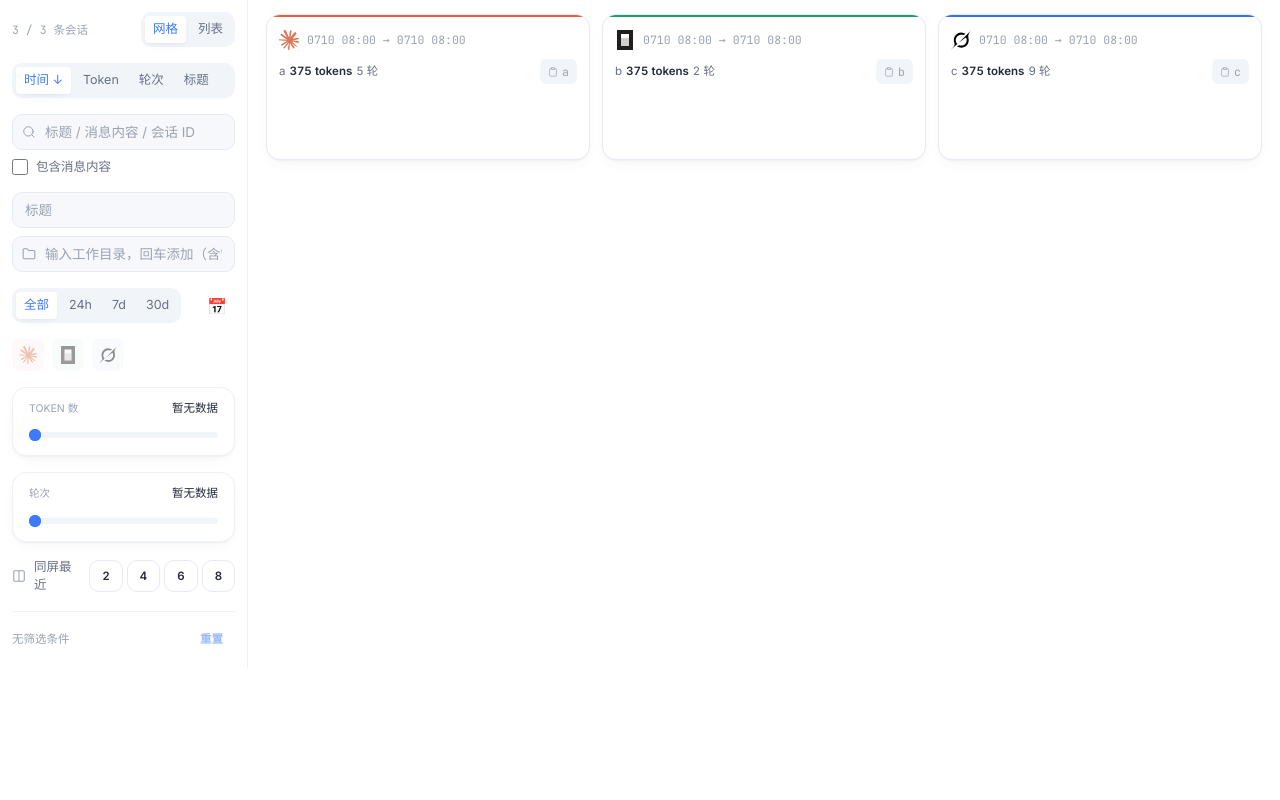
Test: SessionLibrary (t227) › 筛选首屏请求失败时不展示上一筛选的会话
Type "失败筛选" into the field with placeholder "标题 / 消息内容 / 会话 ID" at (124, 132), box 12,114 -> 235,150
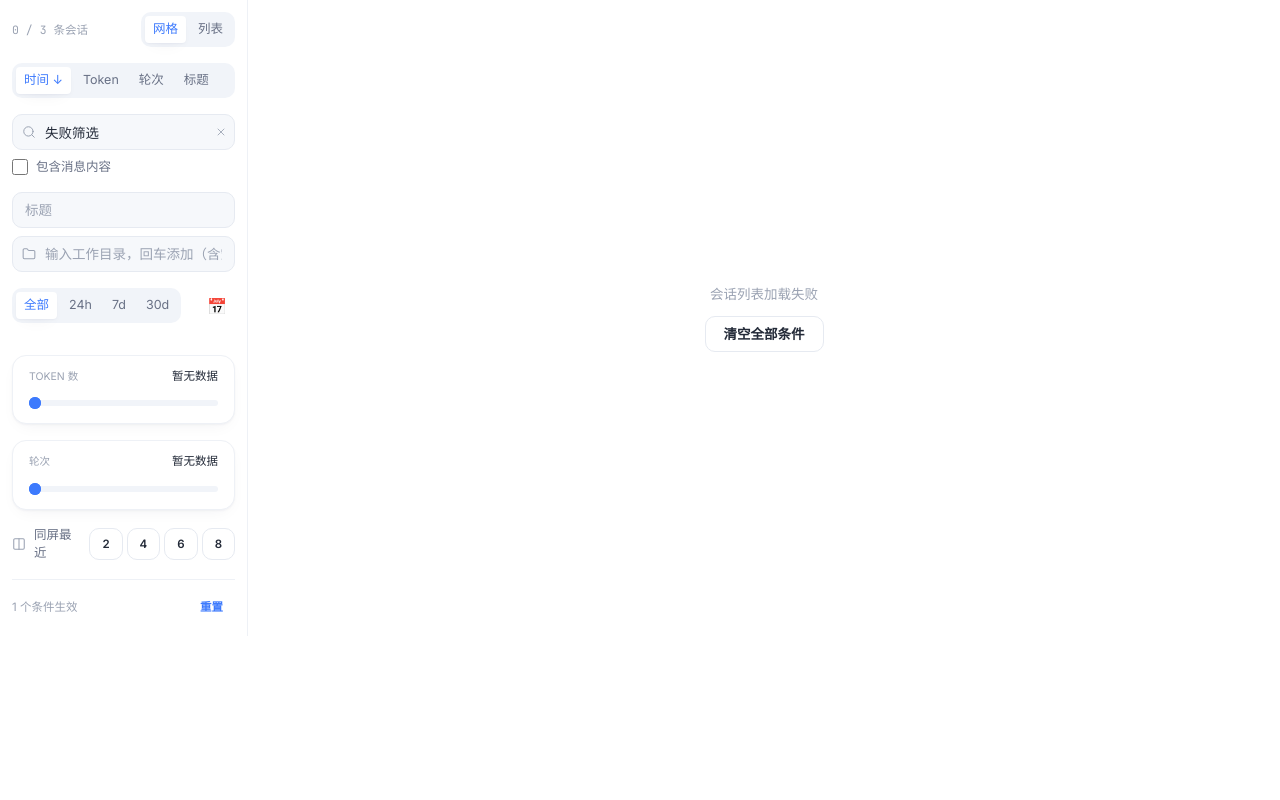
Expected: the text "会话列表加载失败" is shown, 710,284 -> 818,304
